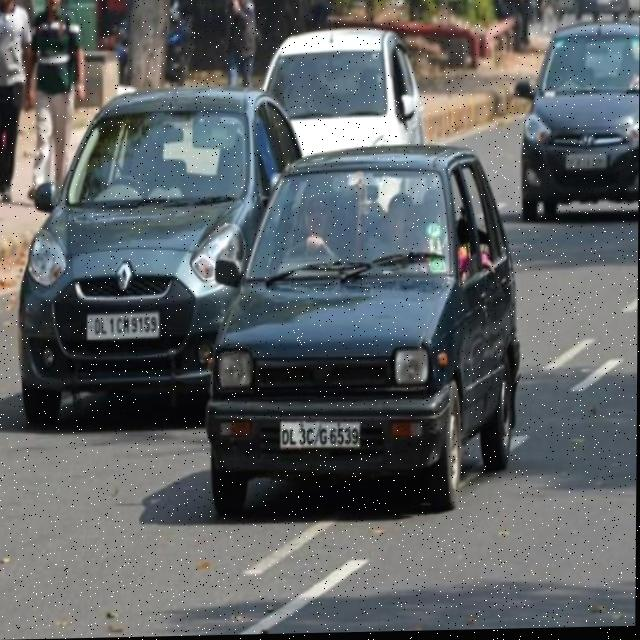plate: (277, 419, 362, 452), (85, 311, 161, 340), (562, 152, 612, 174)
